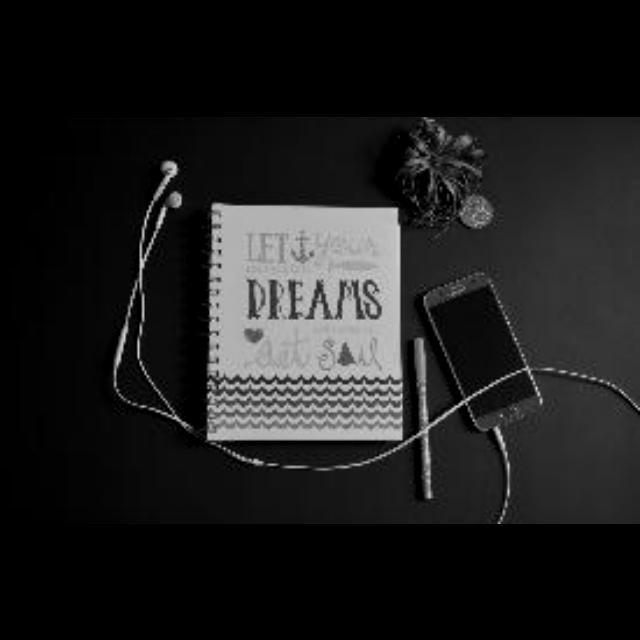fake: (410, 269, 561, 448)
